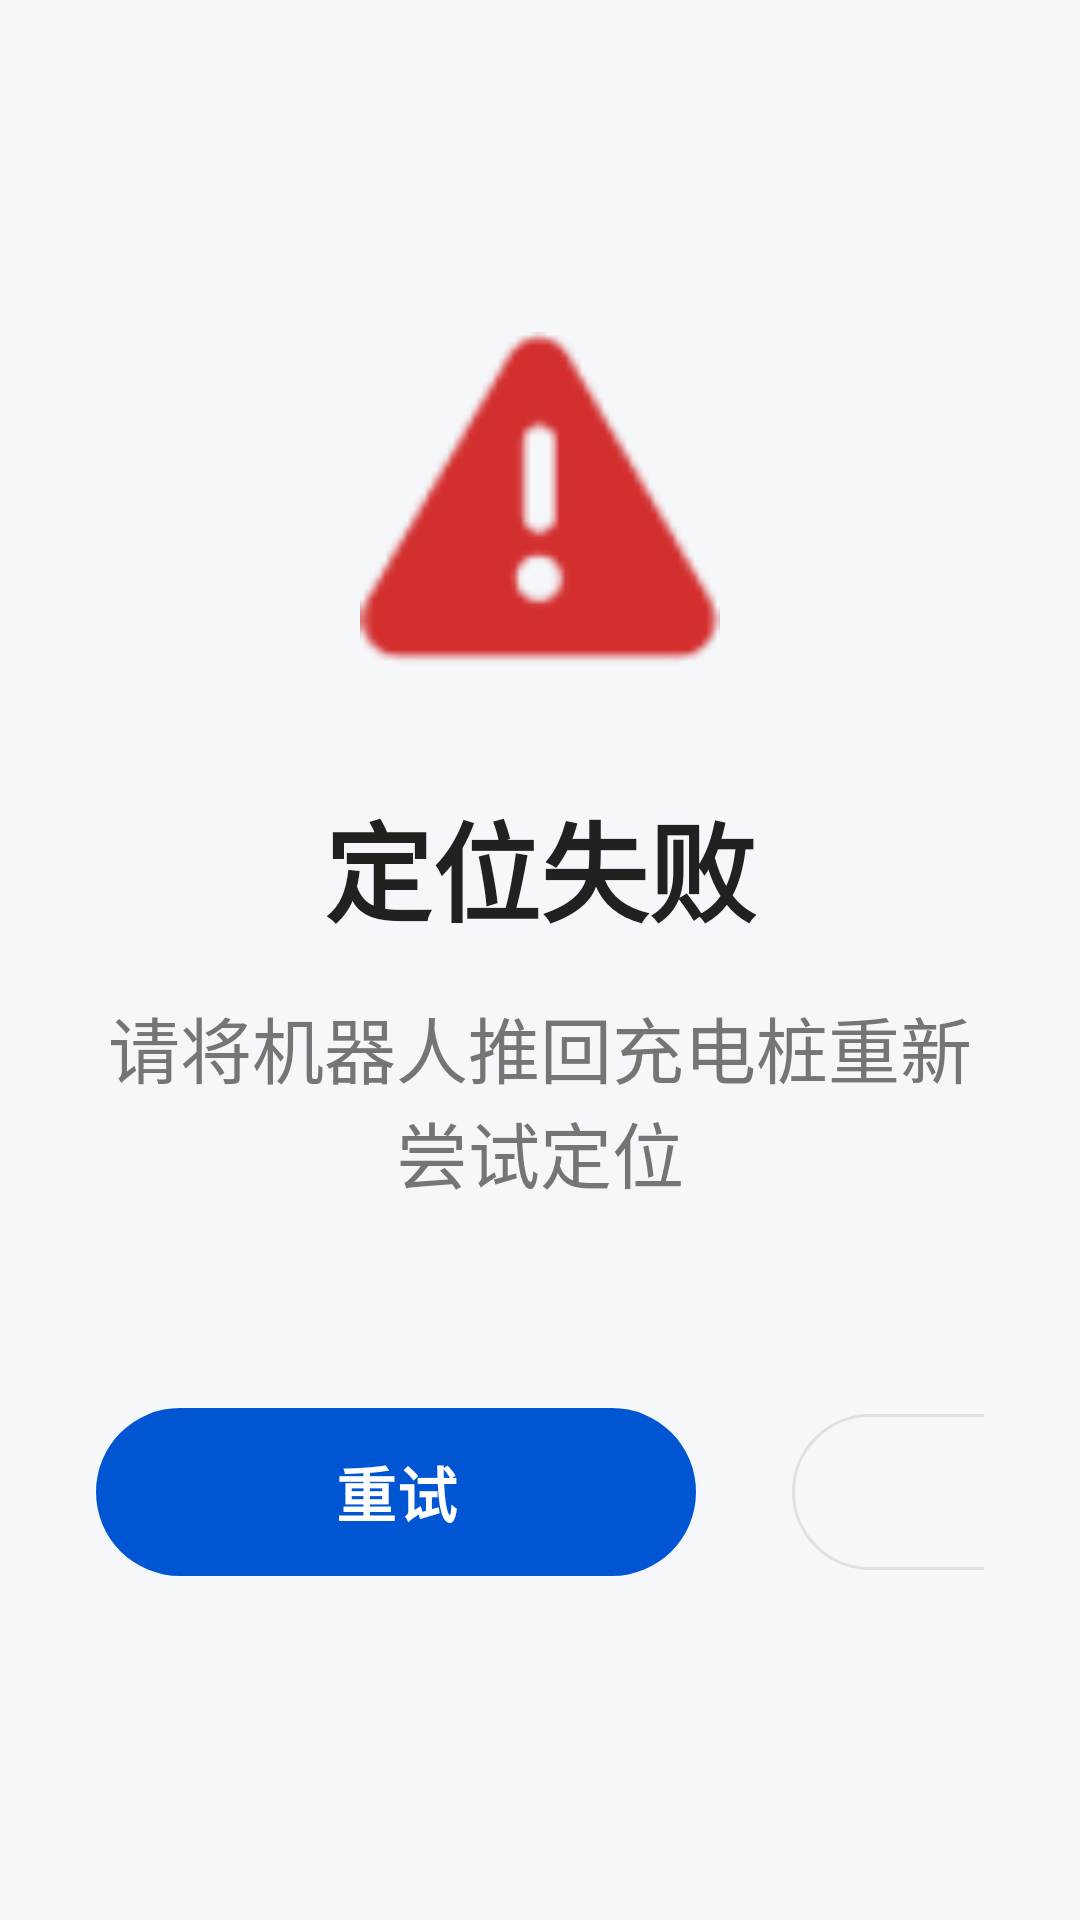

Icons on this 1080×1920 Android screen, each with its box as (x1, y1, x2, y2):
Warning Icon: (360, 332, 720, 661)
